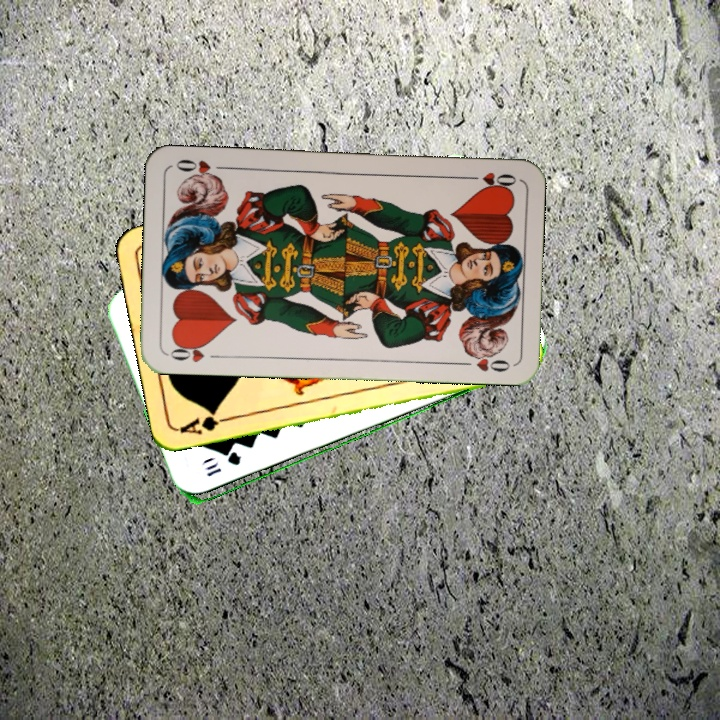G10: (202, 451, 244, 479)
GA: (176, 406, 235, 437)
HO: (164, 339, 223, 365), (460, 168, 519, 190)
